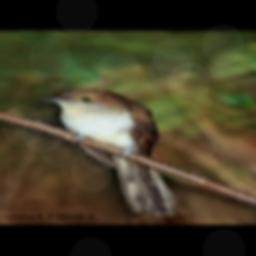Cuckoo: (39, 87, 178, 216)
